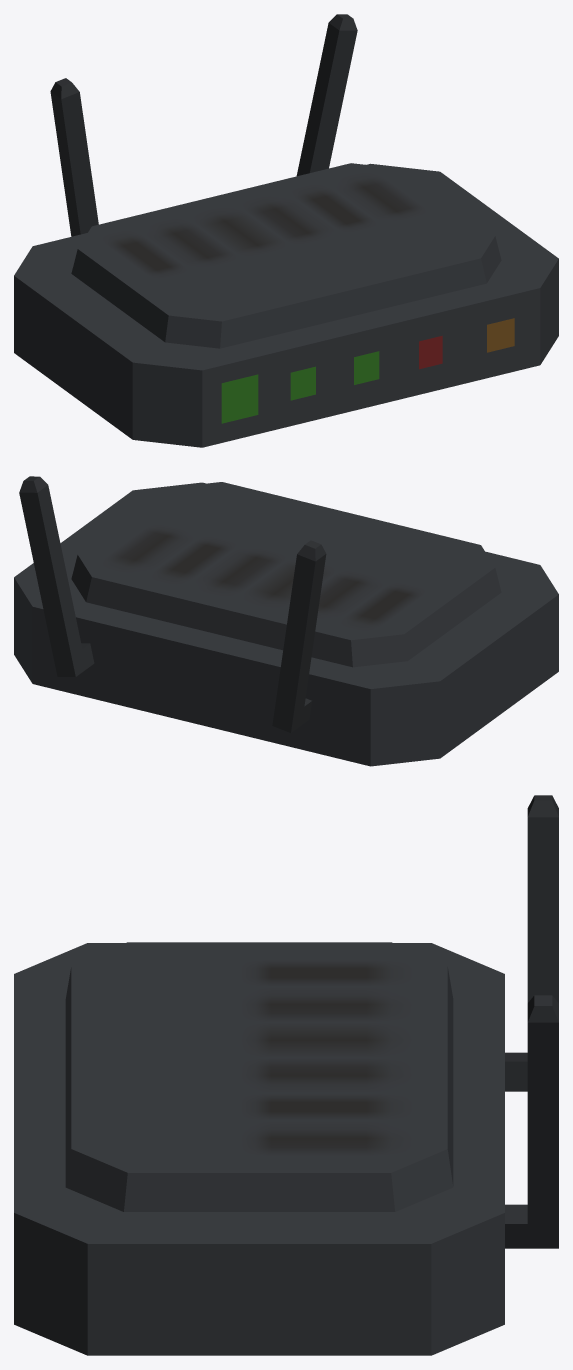
File: SM_Prop_Modem_04.glb
3 renders of one model, top to bottom at view 1: azimuth 30°, elevation 25°; view 2: azimuth 150°, elevation 25°; view 3: azimuth 270°, elevation 25°, orthographic. The views are drawn at different scales.
Parts seen in each view (by area): view 1: SM_Prop_Modem_04; view 2: SM_Prop_Modem_04; view 3: SM_Prop_Modem_04.
Part boxes in pixels (<box>): SM_Prop_Modem_04: <box>14,14,558,447</box>; SM_Prop_Modem_04: <box>14,476,558,766</box>; SM_Prop_Modem_04: <box>14,795,558,1355</box>.
Bounding box in the file's own units: 0.2115 × 0.1051 × 0.1618.
Materials: 1 (1 with a texture image).
